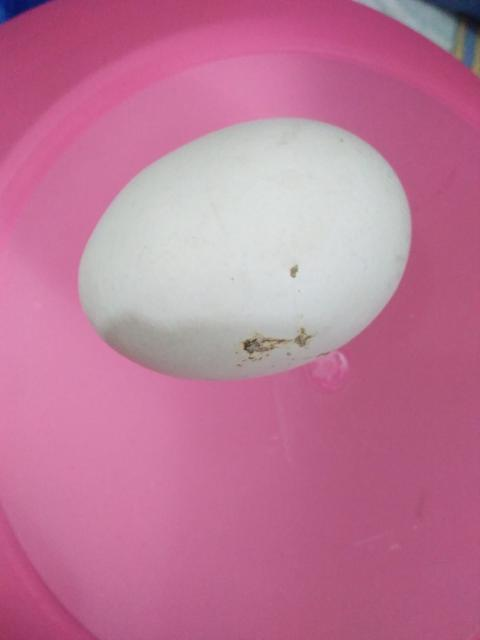Sano: (79, 116, 415, 379)
